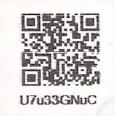QR-CODE: (19, 11, 102, 89)
